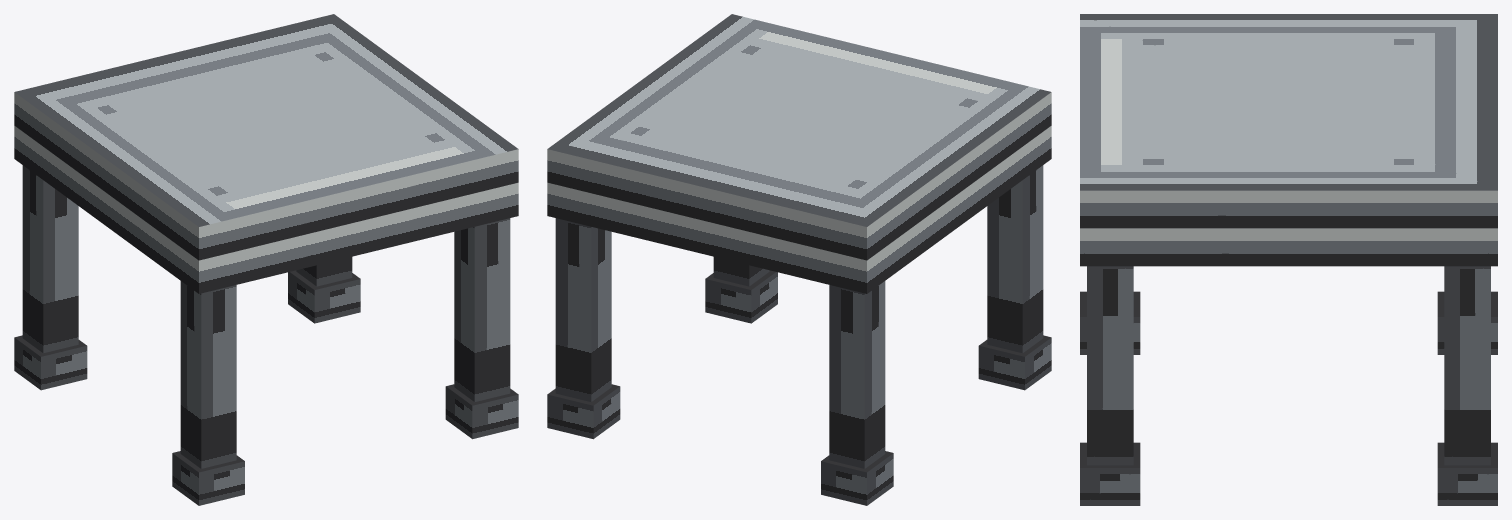
Rendered from reinforced_table_single_4legs.glb.
The picture shows the model from 3 angles, left to right: view 1: azimuth 30°, elevation 25°; view 2: azimuth 150°, elevation 25°; view 3: azimuth 270°, elevation 25°; orthographic projection. The views are drawn at different scales.
Parts seen in each view (by area): view 1: reinforced_table_single_4legs; view 2: reinforced_table_single_4legs; view 3: reinforced_table_single_4legs.
Part boxes in pixels (x1,y1,x2,y2): reinforced_table_single_4legs: (14,14,518,505); reinforced_table_single_4legs: (547,14,1051,505); reinforced_table_single_4legs: (1080,14,1497,505).
Bounding box in the file's own units: 0.9 × 0.75 × 0.9.
1 material, 1 textured.
